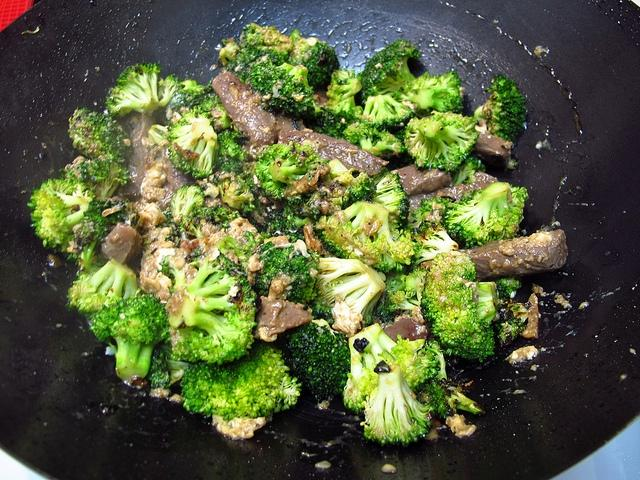broccoli: (250, 246, 386, 326), (180, 338, 302, 424), (165, 256, 258, 366), (420, 253, 500, 363), (342, 324, 440, 413), (88, 288, 170, 384), (312, 202, 416, 275), (274, 318, 351, 404), (360, 365, 436, 447), (442, 183, 529, 248), (250, 56, 324, 126), (27, 177, 96, 249), (254, 140, 330, 204), (354, 39, 422, 110), (402, 112, 479, 174), (104, 61, 186, 118), (66, 258, 142, 319), (474, 74, 528, 150), (68, 106, 134, 164), (392, 71, 464, 119), (168, 118, 220, 180), (59, 154, 132, 198), (288, 29, 340, 89), (404, 221, 458, 276), (417, 378, 486, 420), (369, 167, 411, 231), (304, 96, 364, 139), (212, 170, 257, 217), (178, 205, 240, 238), (146, 343, 190, 389), (77, 217, 111, 274), (218, 39, 258, 83), (361, 95, 414, 128), (168, 184, 204, 225), (162, 86, 202, 122), (376, 290, 417, 324), (326, 68, 362, 106), (342, 122, 379, 156), (216, 128, 252, 162), (372, 130, 405, 159), (264, 44, 294, 66), (286, 212, 312, 234), (495, 278, 522, 298), (198, 180, 220, 198), (160, 344, 182, 360), (218, 110, 233, 130), (233, 246, 247, 255)
